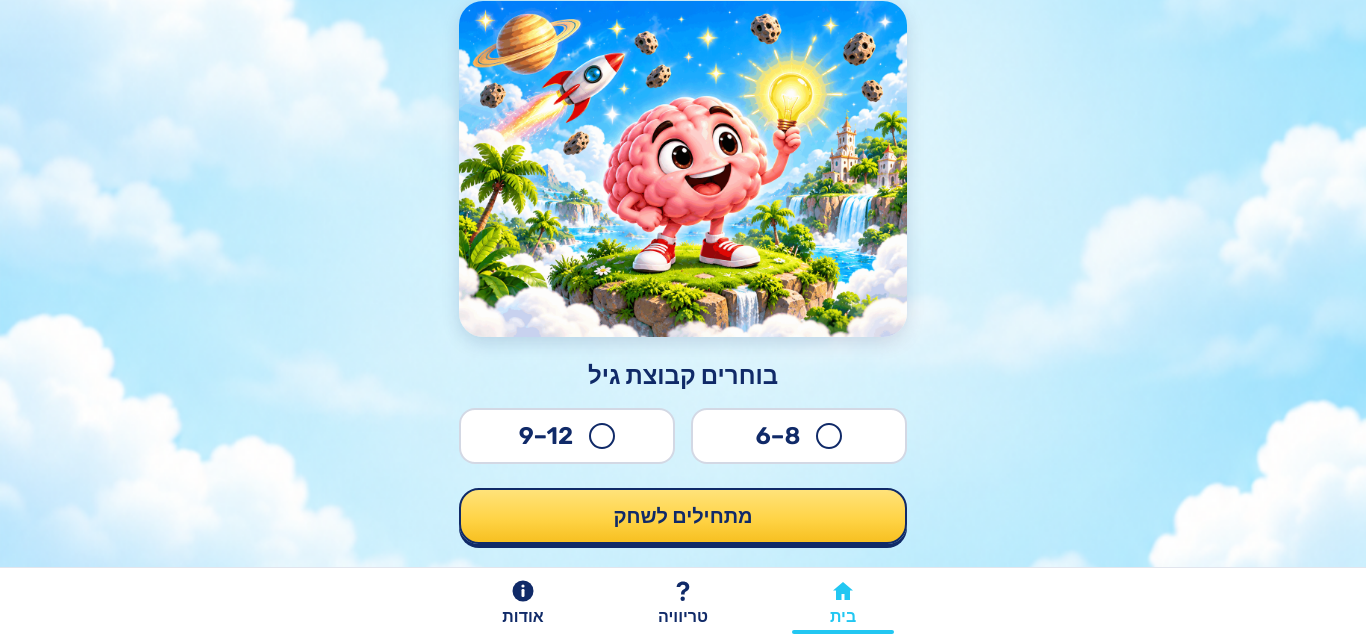
starting a game › does not start without an age group and explains why
(page scrolled)
Click the button "מתחילים לשחק": (683, 516) [459, 488, 907, 544]
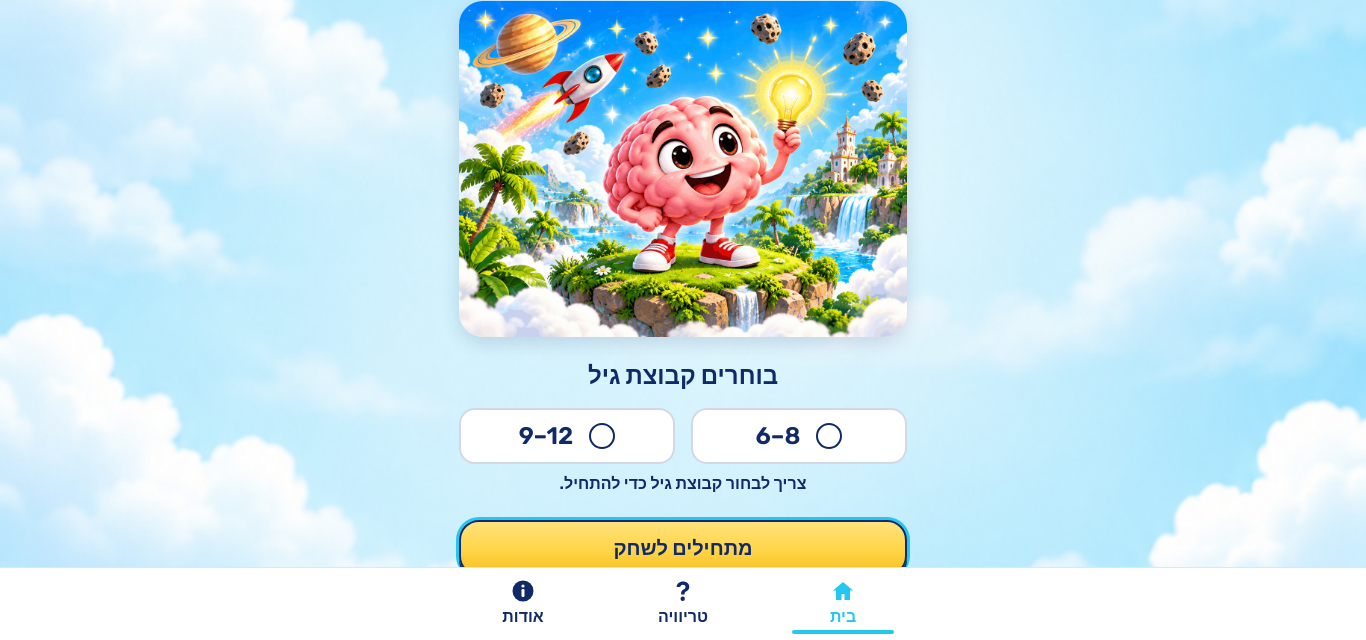
Now the message shows "צריך לבחור קבוצת גיל", box [560, 474, 806, 493]
